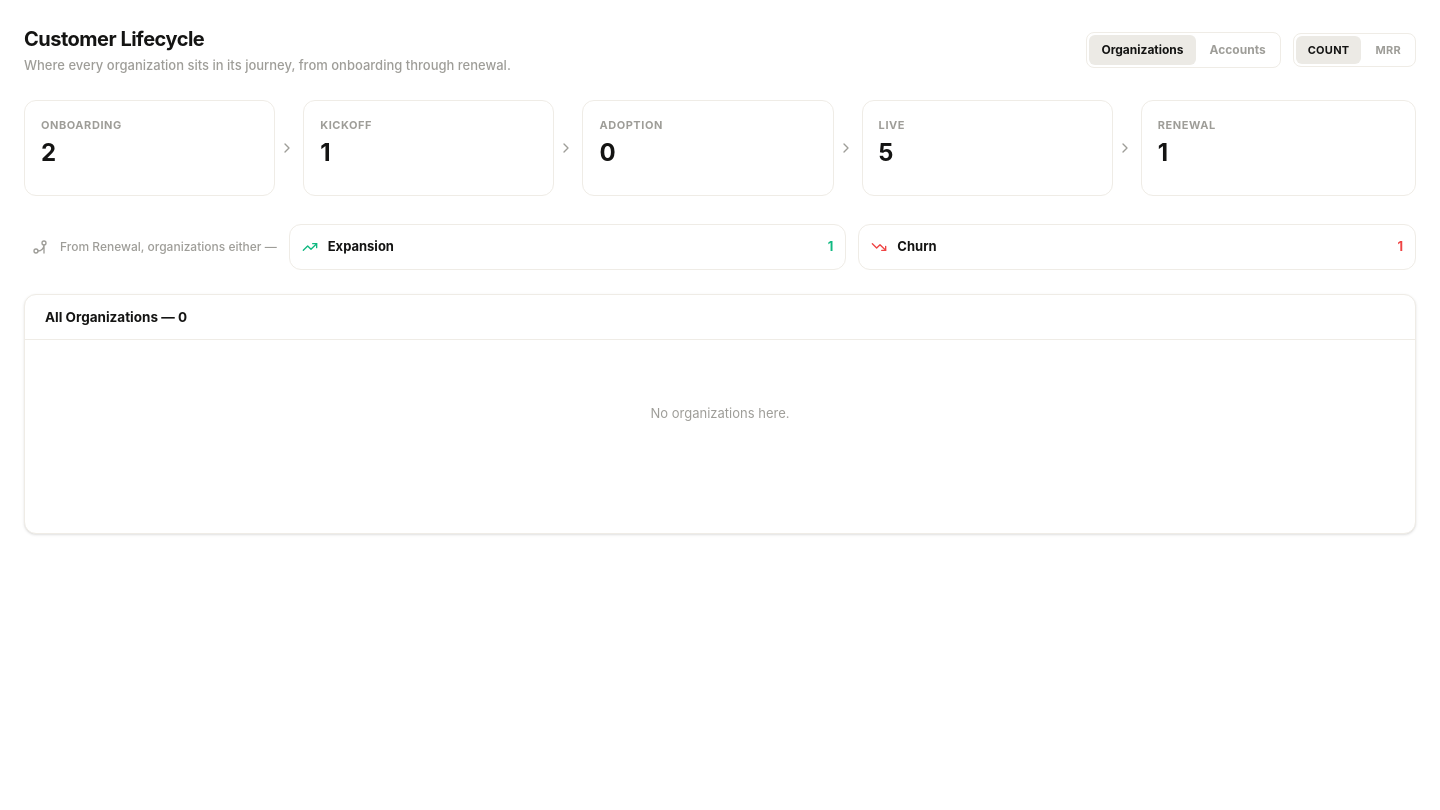
LifecyclePage › shows an "excluded" caveat on MRR only, only for Organizations, when some customers lack a configured exchange rate
Expected: the text "Onboarding" is shown, [41,116,122,133]
Expected: the text "excluded" is not shown
Click the button "mrr".
click(1388, 50)  # box [1364,36,1413,64]
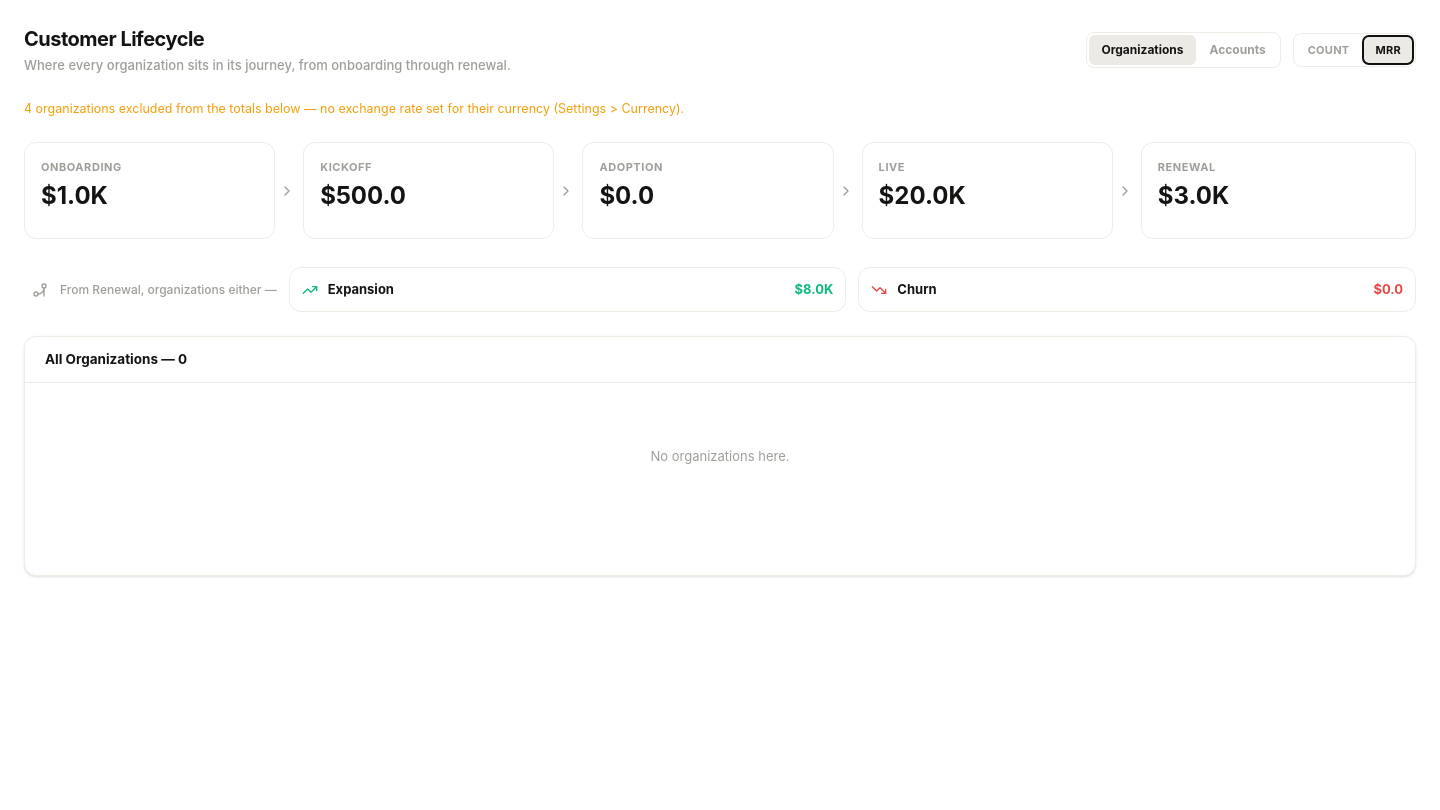
Expected: the text "4 organizations excluded" is shown, [24,100,684,116]
Click the button "accounts".
click(1238, 50)  # box [1198,35,1278,65]
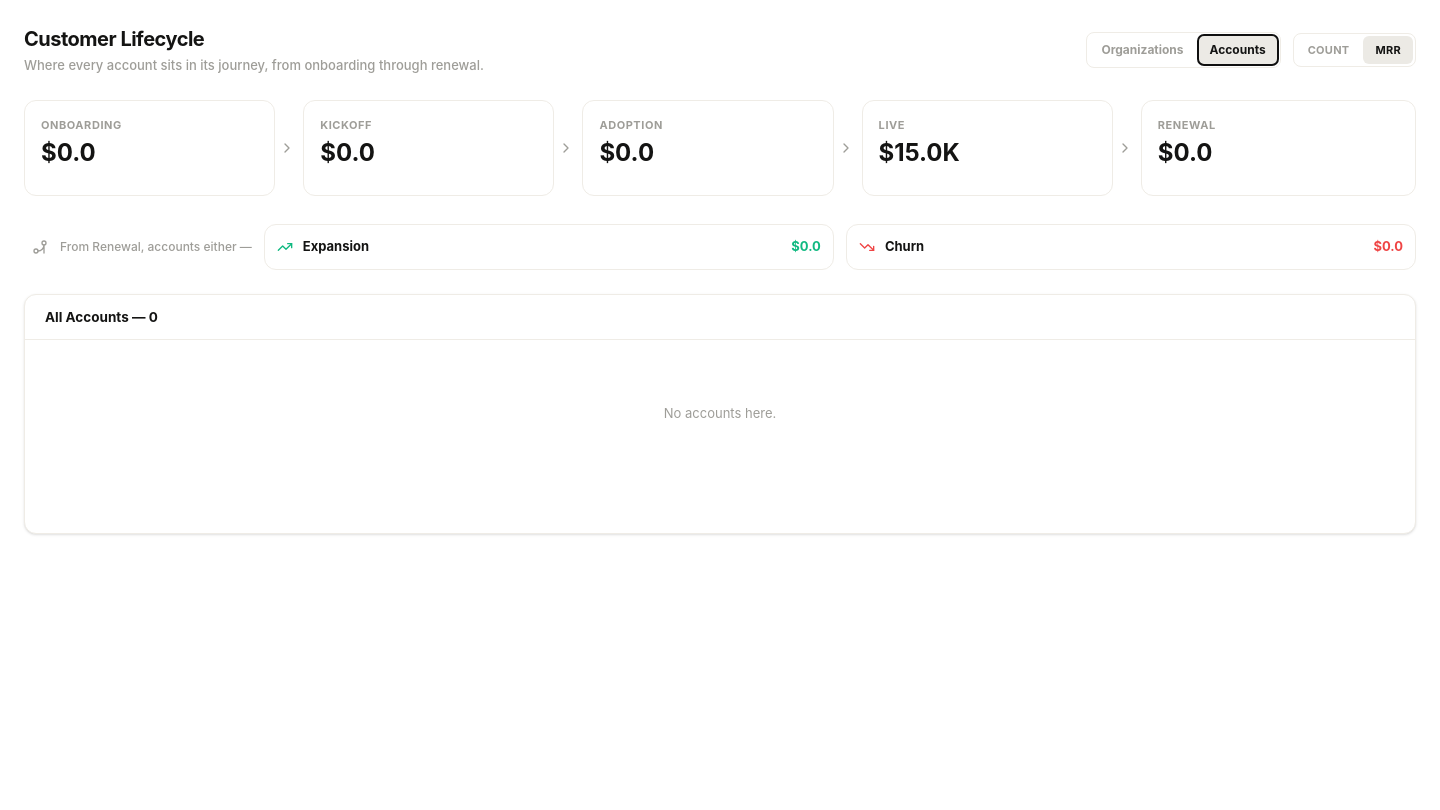
Expected: the text "excluded" is gone
